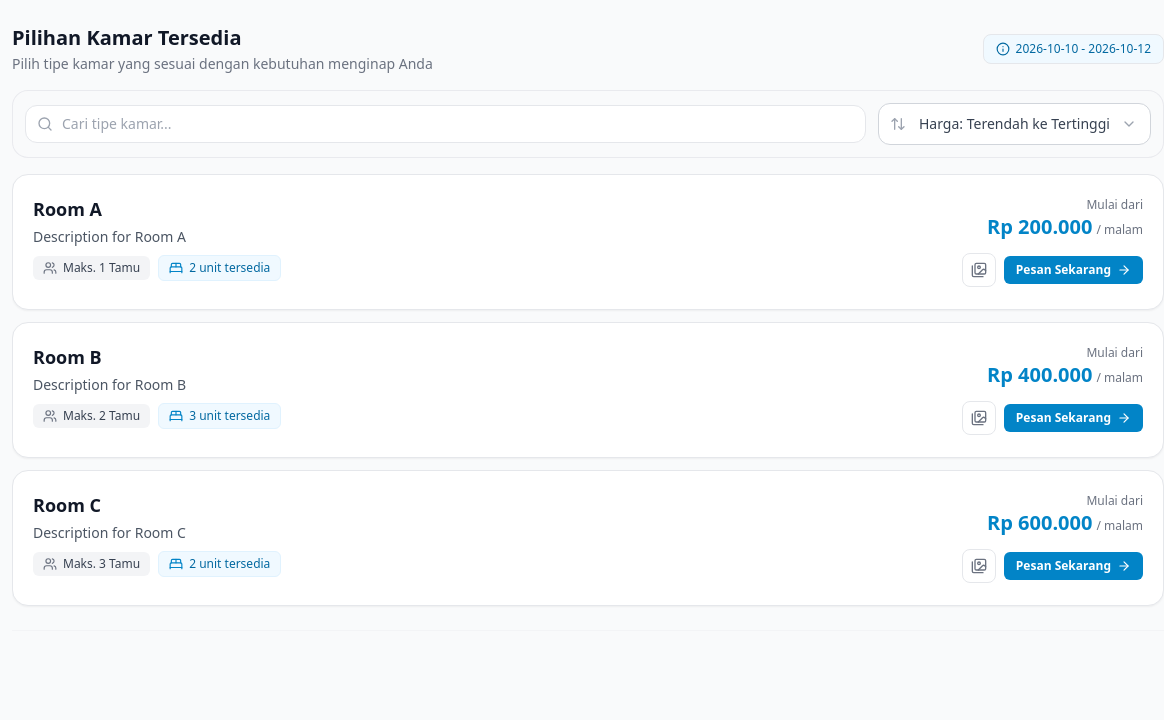
Test case: sorts rooms by name descending
Select "Nama: Z ke A" in the dropdown named "Urutkan kamar": {"x": 1014, "y": 124} x1=878 y1=103 x2=1151 y2=145
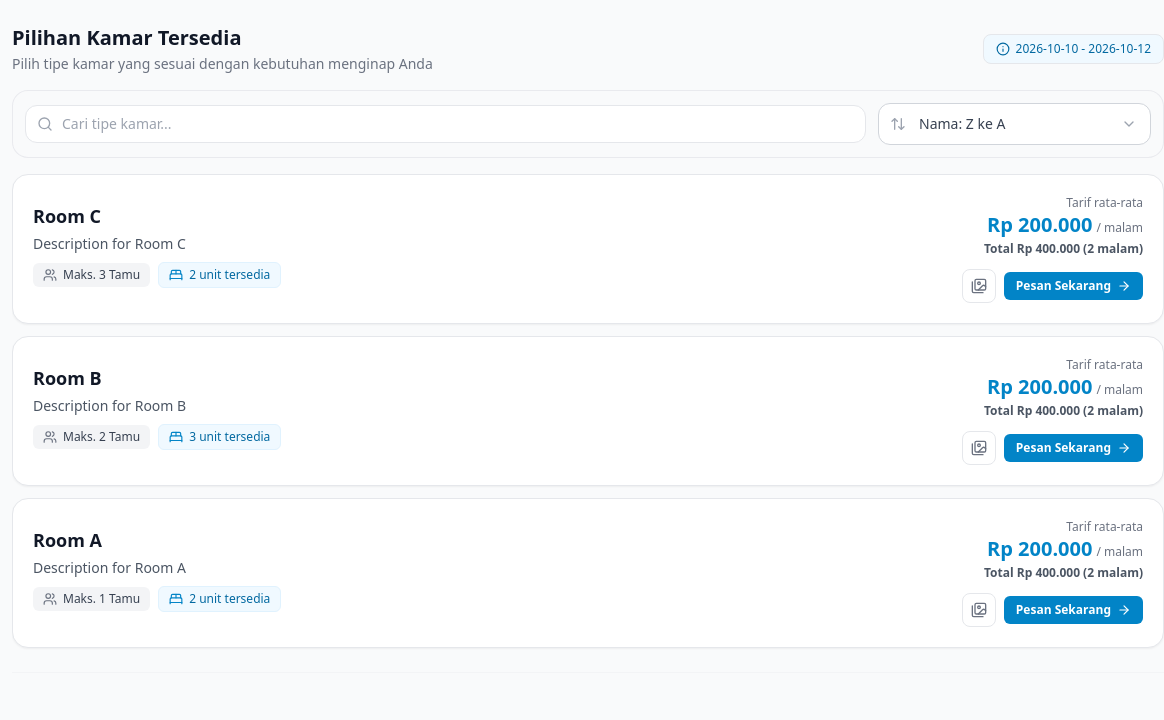
Check: the heading "Room C" is shown, box x1=33 y1=204 x2=101 y2=228
